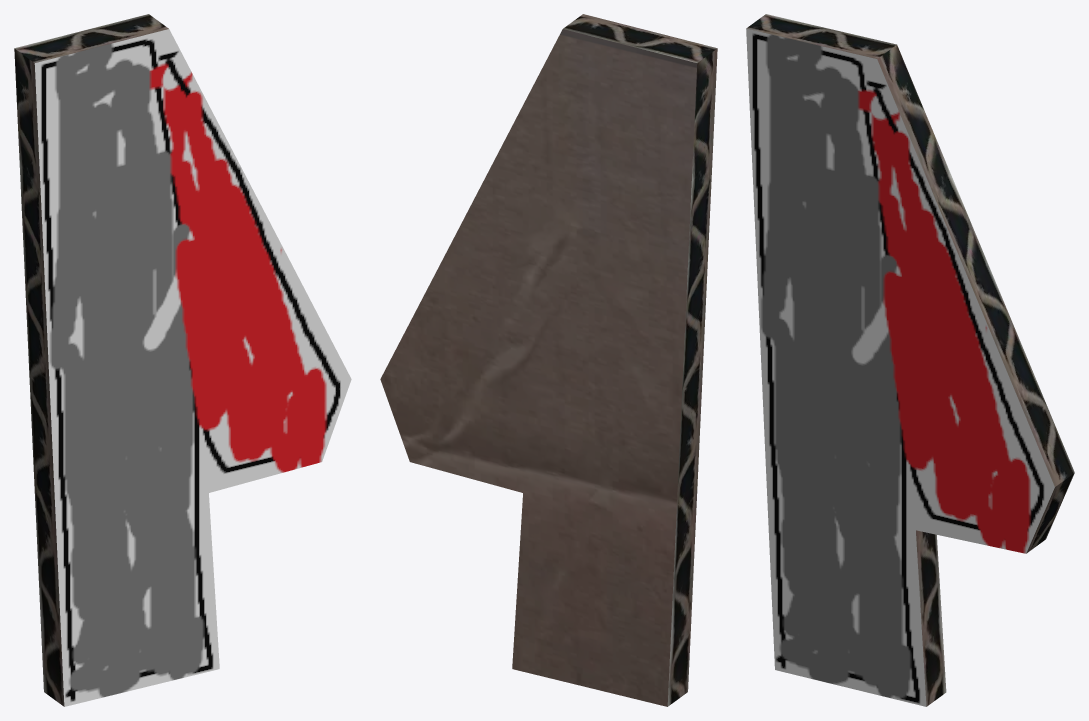
Rendered from flag-down.fbx.
The picture shows the model from 3 angles, left to right: view 1: azimuth 30°, elevation 25°; view 2: azimuth 150°, elevation 25°; view 3: azimuth 330°, elevation 25°; orthographic projection. The views are drawn at different scales.
Visible parts, largest first — view 1: flag-down; view 2: flag-down; view 3: flag-down.
Part boxes in pixels (x1,y1,x2,y2): flag-down: (14, 14, 351, 706); flag-down: (380, 14, 717, 706); flag-down: (746, 14, 1074, 706).
Size of the model in its own units: 296 by 582 by 33.
